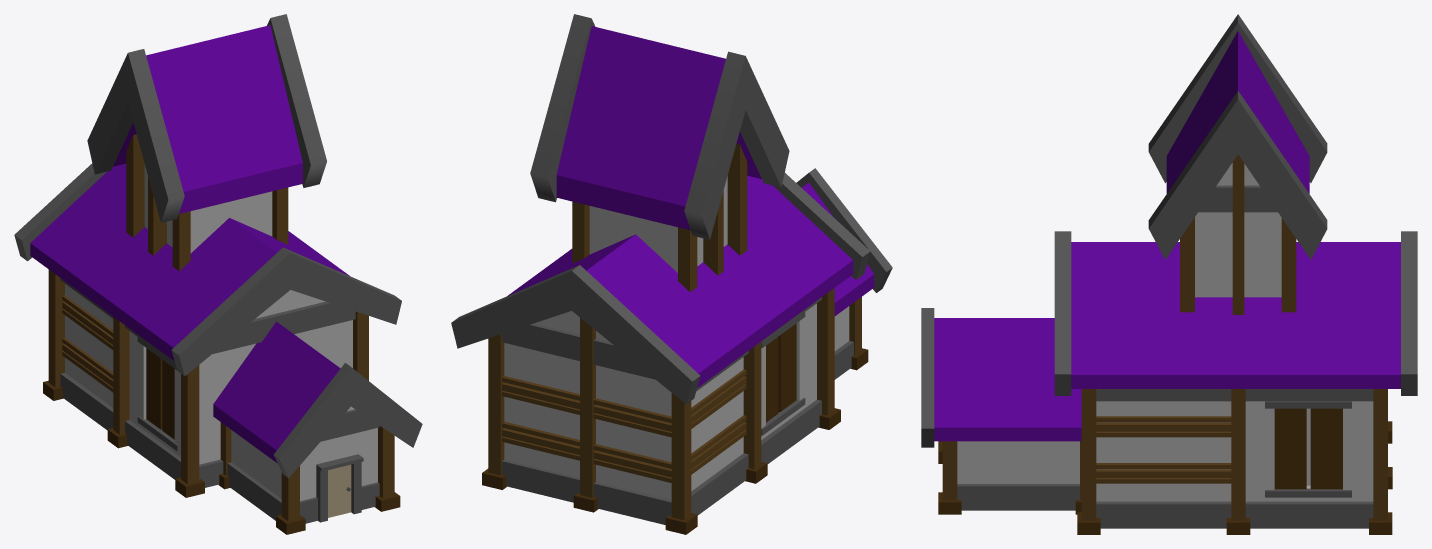
The model's file is Mesh_Royal_Hos_3.fbx.
3 renders of one model, left to right at view 1: azimuth 30°, elevation 25°; view 2: azimuth 150°, elevation 25°; view 3: azimuth 270°, elevation 25°, orthographic. The views are drawn at different scales.
Visible parts, largest first — view 1: Royal_Hos_3; view 2: Royal_Hos_3; view 3: Royal_Hos_3.
Part boxes in pixels (left/top/right/bottom): Royal_Hos_3: left=14, top=14, right=422, bottom=534; Royal_Hos_3: left=451, top=14, right=892, bottom=534; Royal_Hos_3: left=921, top=14, right=1417, bottom=534.
Size of the model in its own units: 948 by 1576 by 1657.
